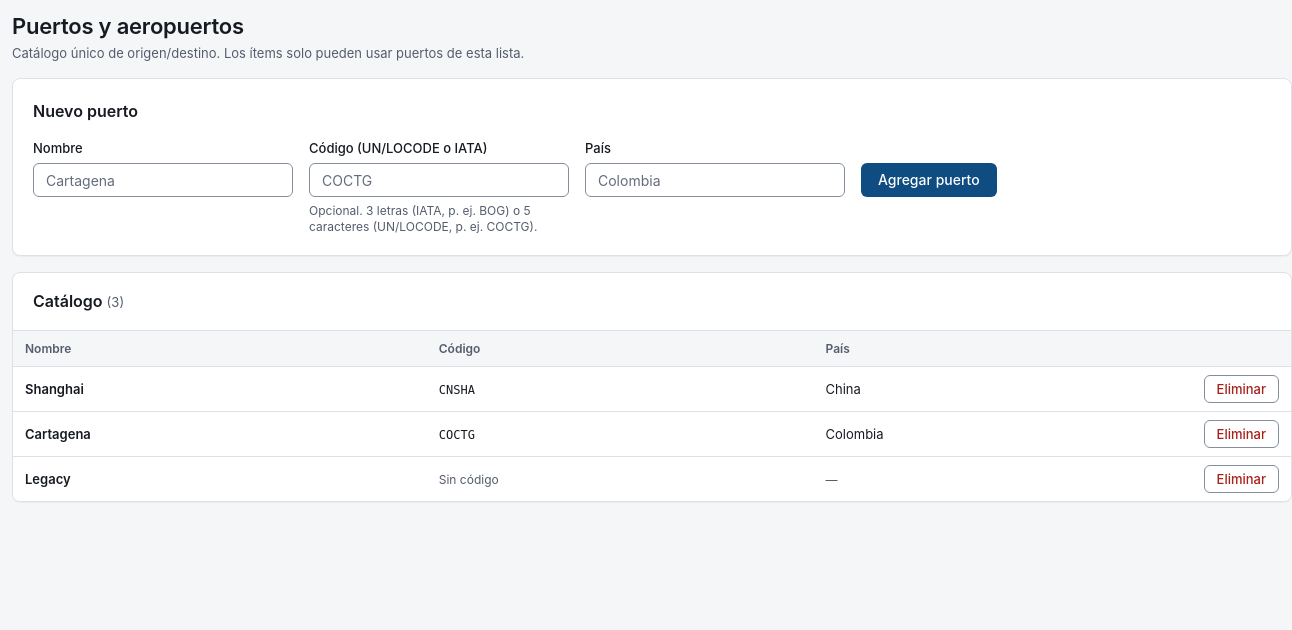
Test: PuertosPage › elimina y muestra el 409 cuando el puerto está en uso
This screenshot has width=1292, height=630.
Click the button "Eliminar" in the row of "Shanghai" at (1241, 389), box 1204,375 -> 1279,403
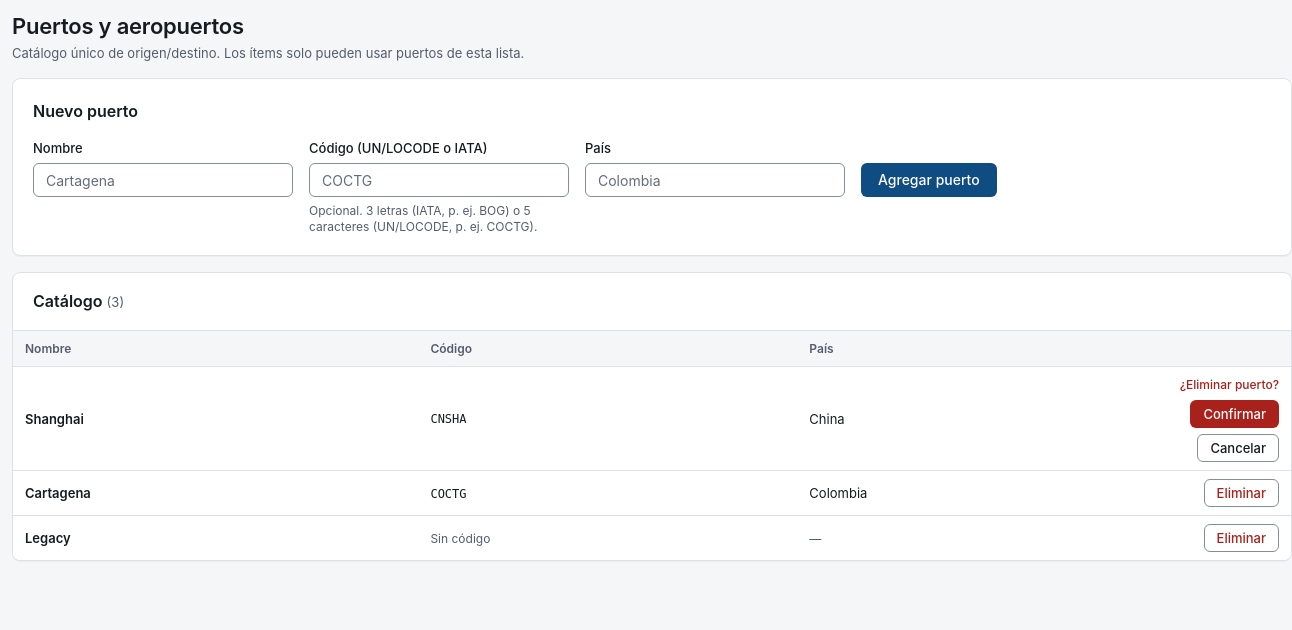
Click the button "Confirmar" at (1235, 414), box 1190,400 -> 1279,428
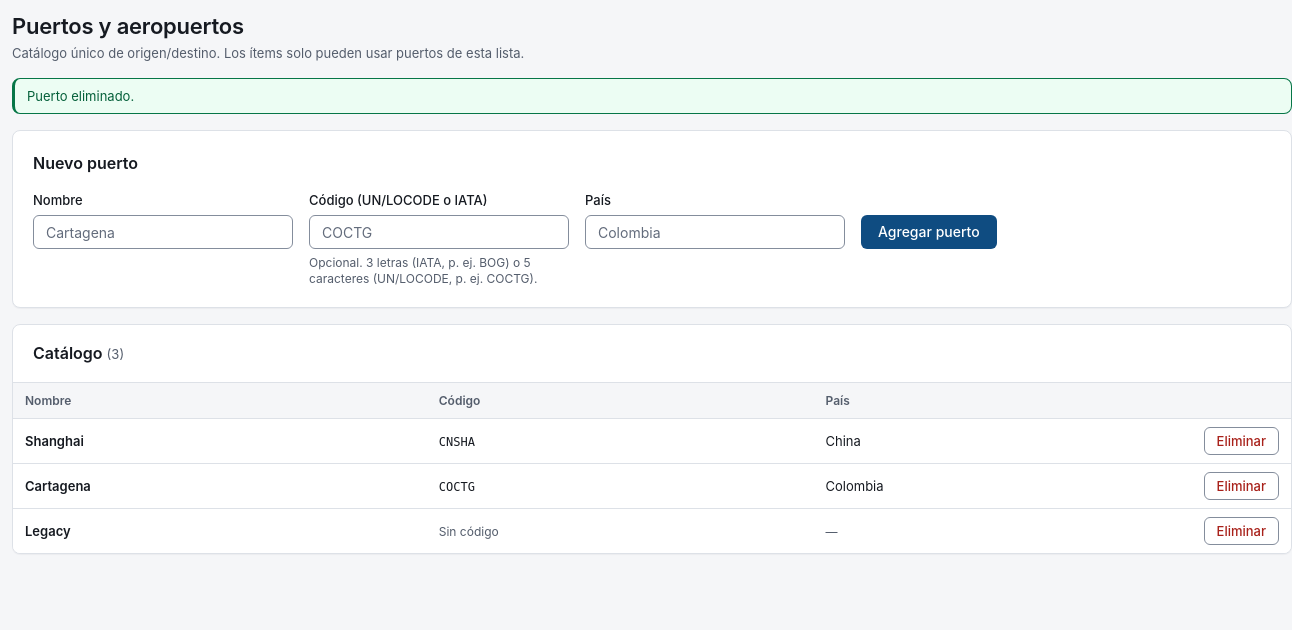
Expected: the text "Puerto eliminado." is shown, 12,78 -> 1291,114
Click the button "Eliminar" in the row of "Cartagena" at (1241, 486), box 1204,472 -> 1279,500
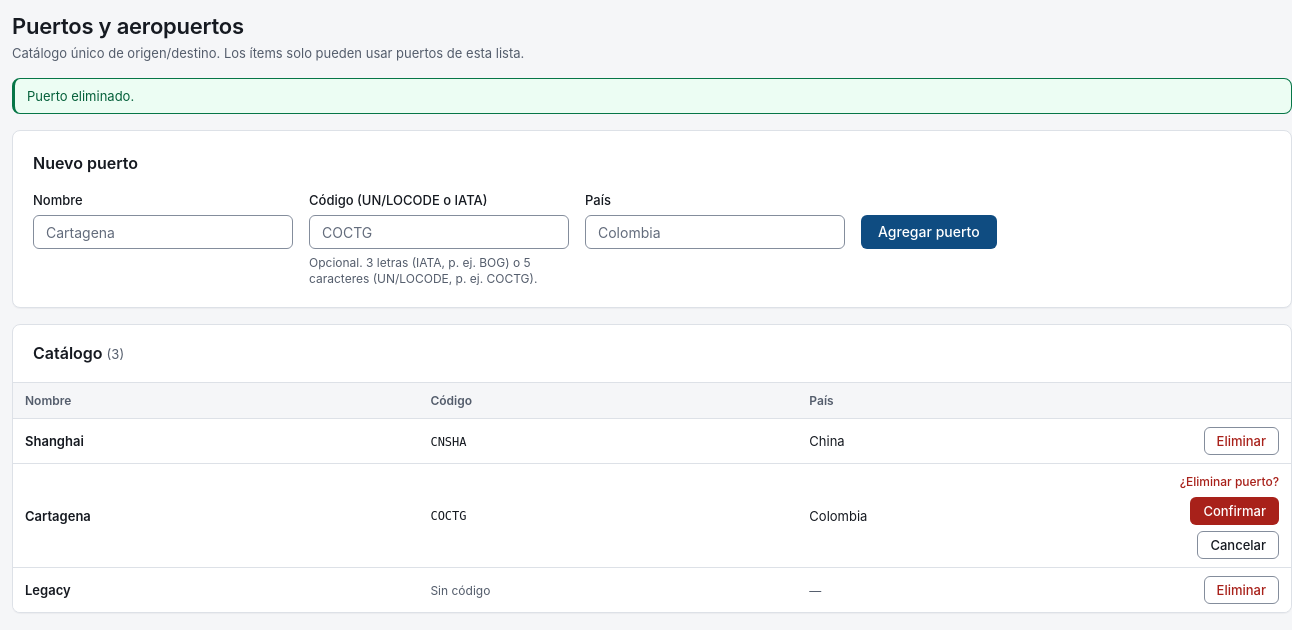
Click the button "Confirmar" at (1235, 511), box 1190,497 -> 1279,525
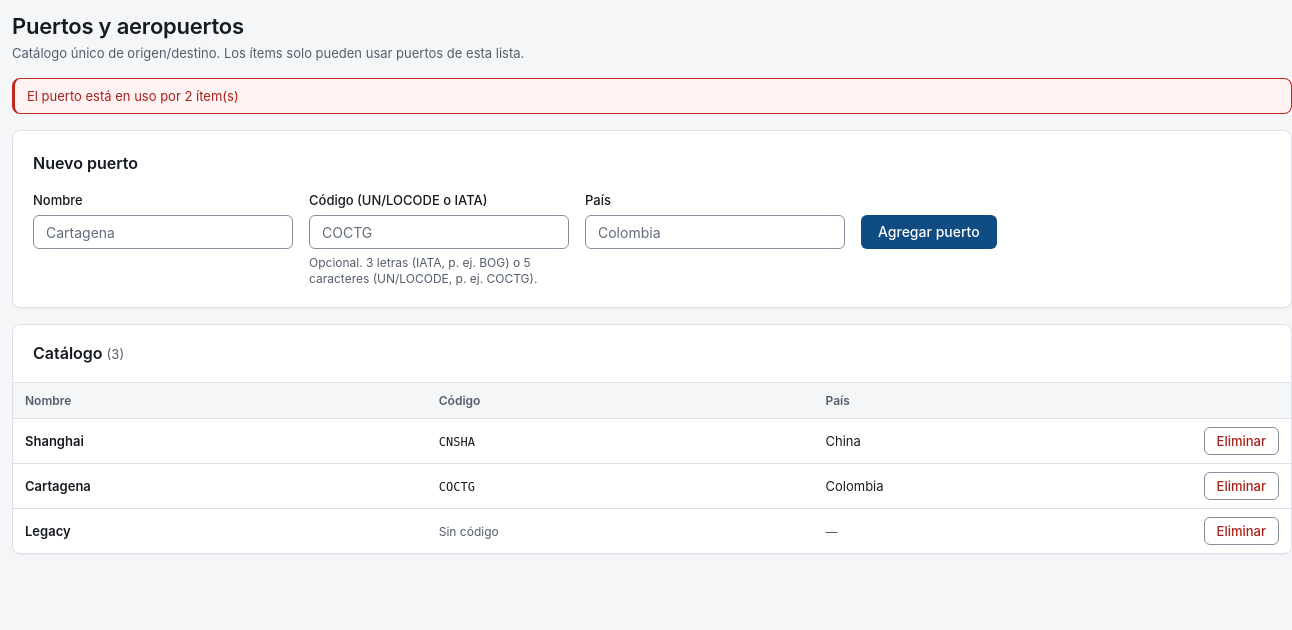
Expected: the text "El puerto está en uso por 2 ítem(s)" is shown, 12,78 -> 1291,114
